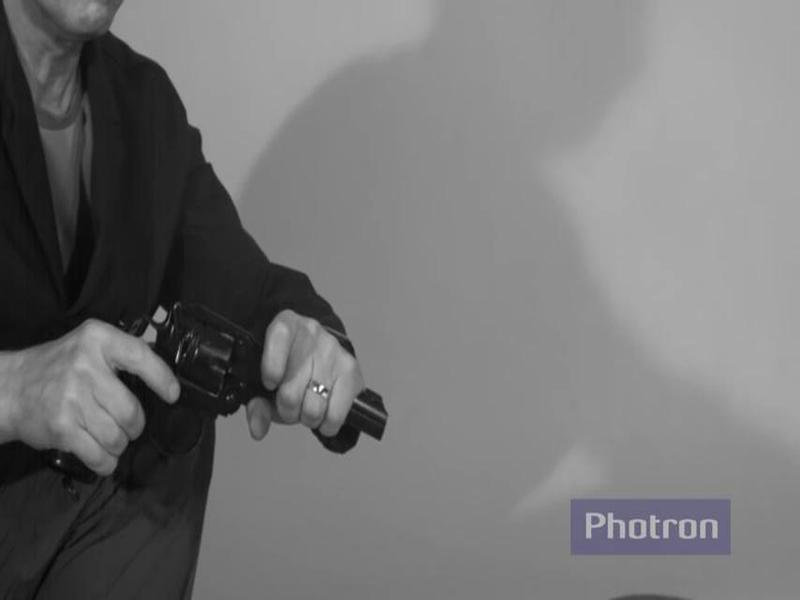Revolver: (37, 274, 403, 517)
